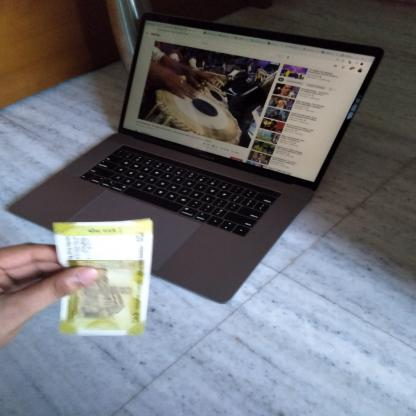New20Back: (55, 224, 145, 336)
